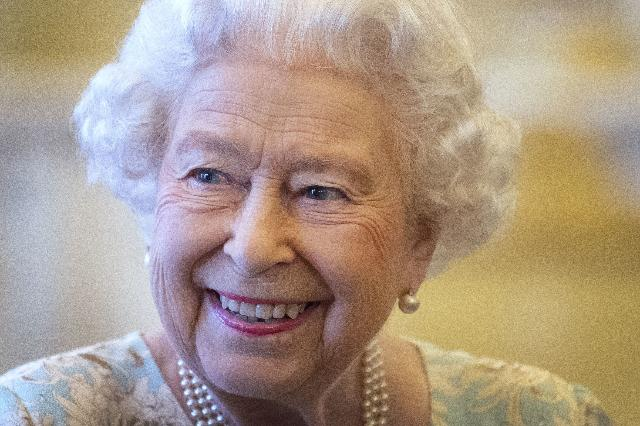crows_feet: (349, 192, 383, 228), (158, 174, 182, 206)
forehead: (194, 86, 262, 124), (278, 107, 349, 143)
frown_line: (252, 168, 280, 192), (249, 150, 265, 177)
gummy_smile: (189, 235, 221, 274), (299, 254, 335, 288)
masseter: (152, 259, 172, 305), (368, 240, 394, 274)
sad_smile: (186, 291, 206, 341), (316, 312, 332, 356)
smoker_lines: (234, 272, 282, 292)
